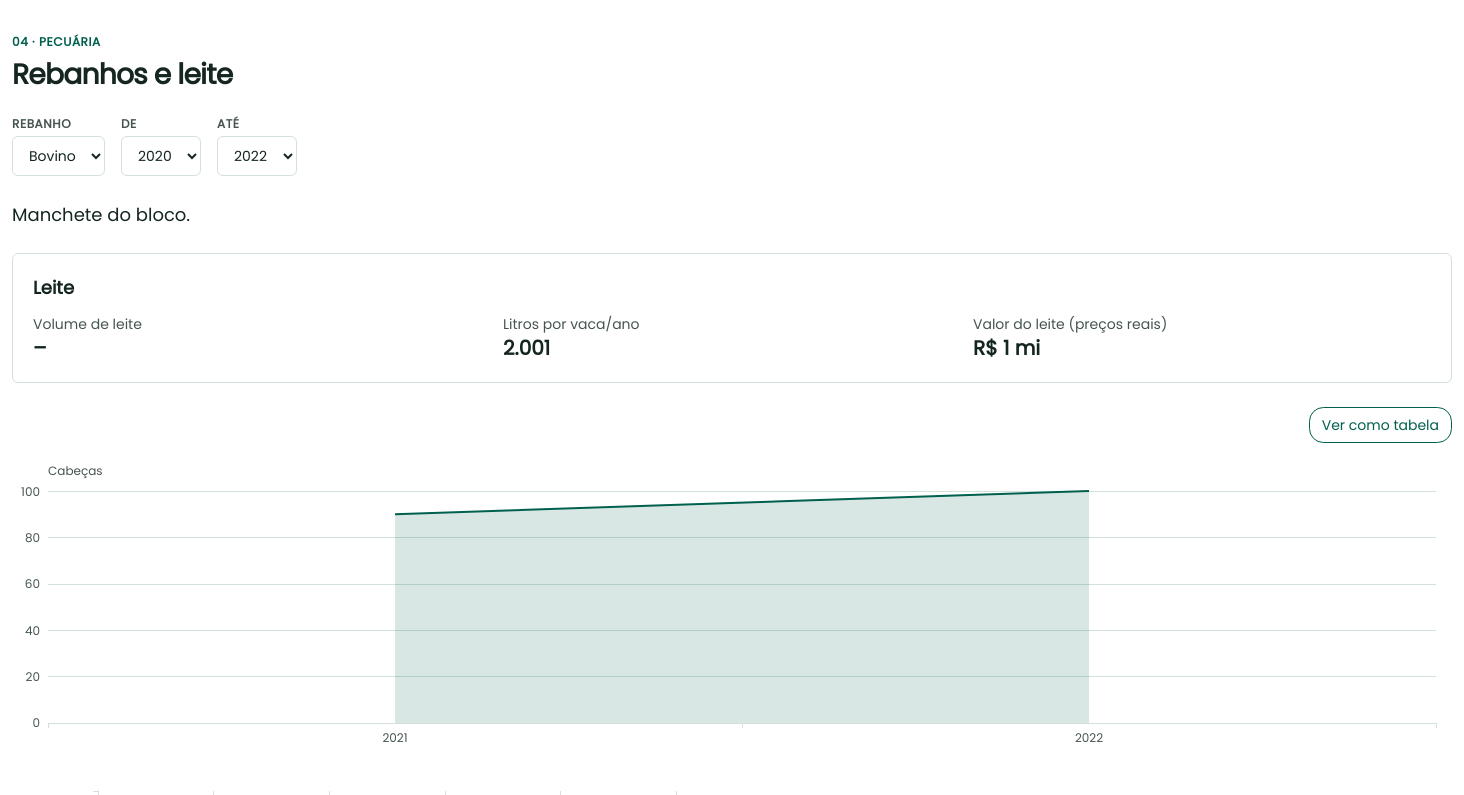
Test: BlocoPecuaria › consulta com pec_, mostra leite com '–' para nulo e tabela com polos
Expected: the text "Manchete do bloco." is shown, [12,202,190,227]
Expected: the heading "Leite" is shown, [33,275,74,300]
Click the button "Ver como tabela" at x=1380, y=425, box [1309,407,1452,443]
(page scrolled)
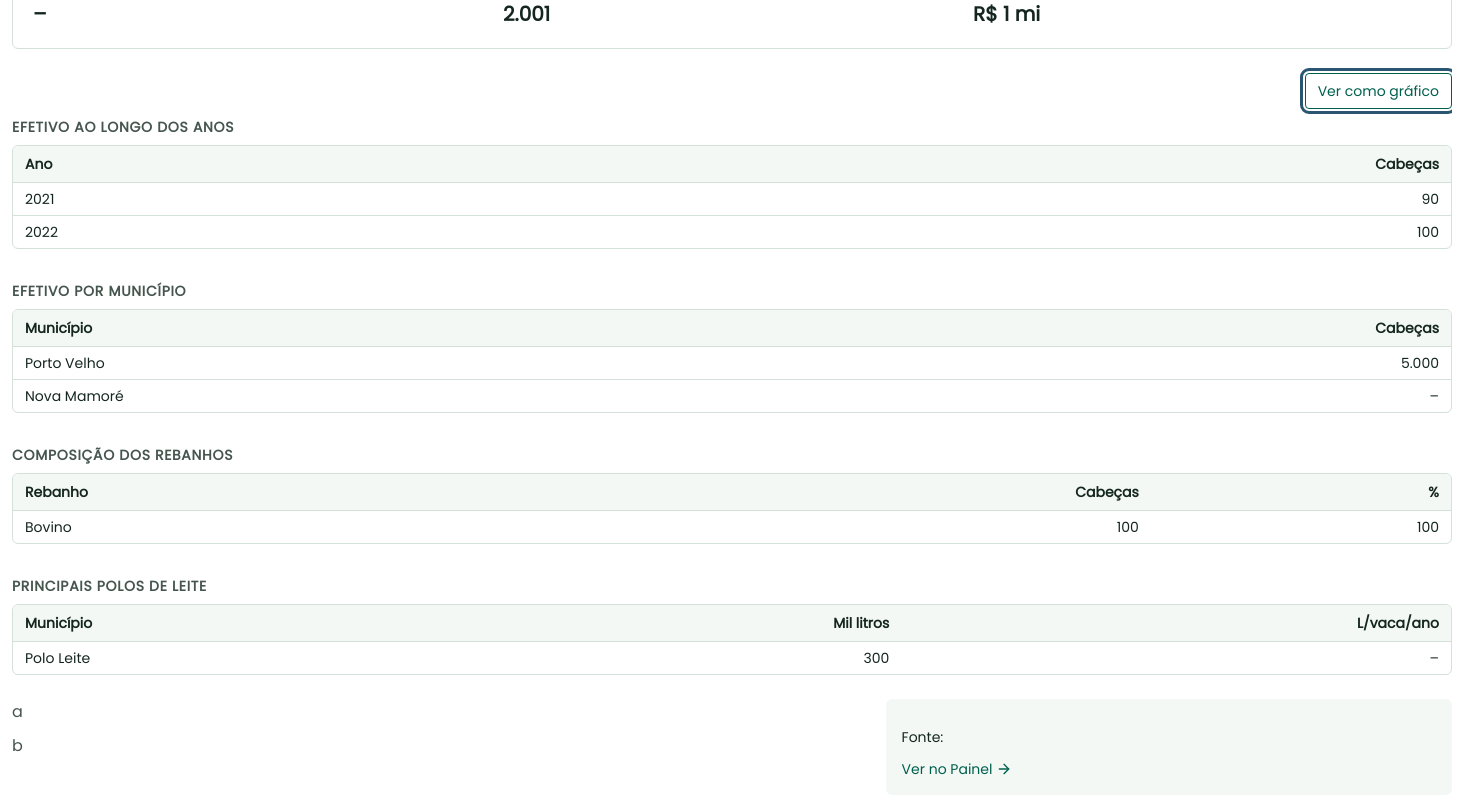
Expected: the text "Polo Leite" shows "300", [864,648,889,668]
Expected: the text "Nova Mamoré" reads "Nova Mamoré –", [13,380,1451,412]
